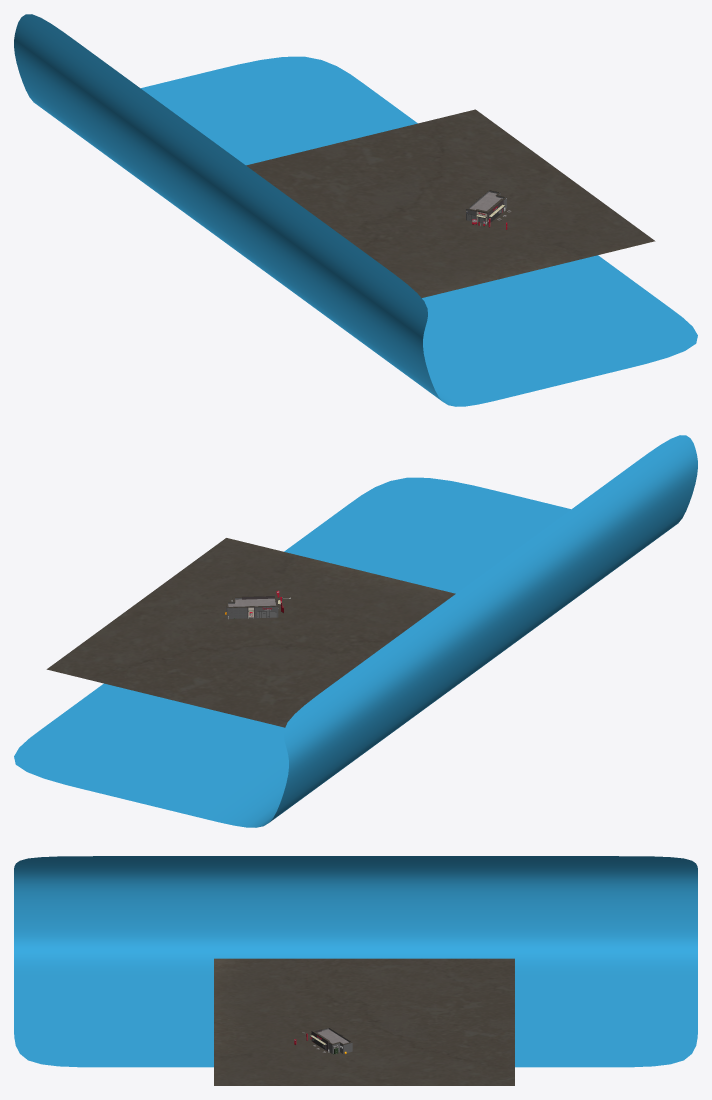
The model's file is TimHortons.fbx.
3 renders of one model, top to bottom at view 1: azimuth 30°, elevation 25°; view 2: azimuth 150°, elevation 25°; view 3: azimuth 270°, elevation 25°, orthographic. The views are drawn at different scales.
Visible parts, largest first — view 1: Plane, Plane.001; view 2: Plane, Plane.001, Cube; view 3: Plane, Plane.001, Cube.
Boxes of the visible parts, x1,y1,x2,y2 form: Plane: (14, 14, 697, 406); Plane.001: (246, 109, 655, 297); Plane: (14, 435, 697, 827); Plane.001: (46, 538, 455, 727); Cube: (226, 598, 278, 618); Plane: (14, 856, 697, 1067); Plane.001: (214, 958, 514, 1085); Cube: (317, 1028, 352, 1054).
Bounding box in the file's own units: 19015 × 5796 × 38255.
30 materials, 15 textured.
